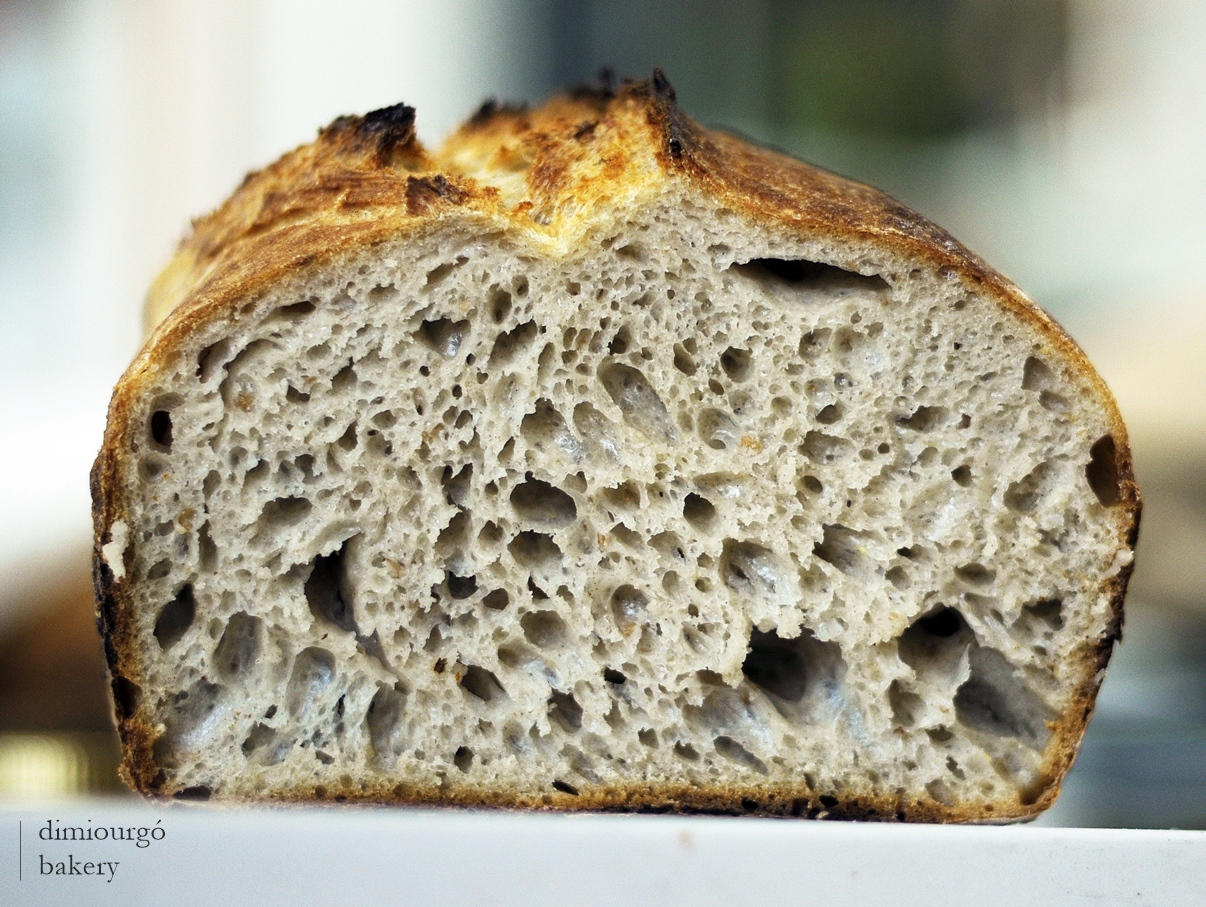slice of bread: (95, 120, 1143, 826)
